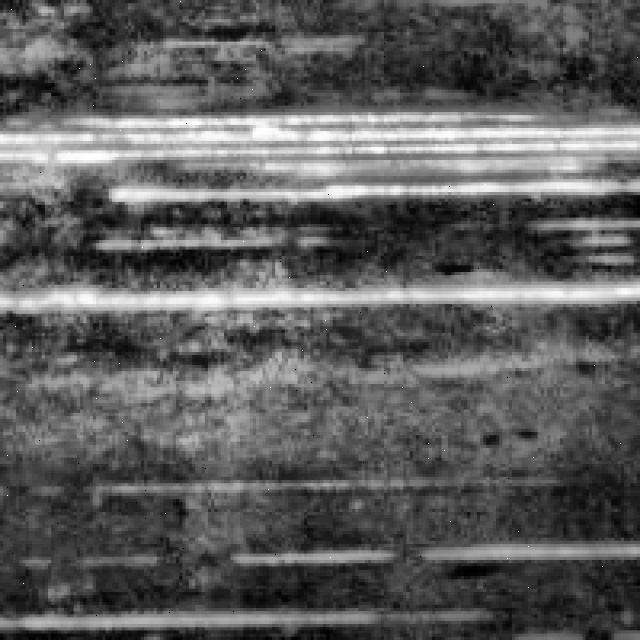Inclusion: (10, 102, 640, 204), (6, 262, 640, 314)
